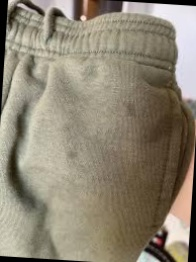oil: (65, 144, 80, 163)
